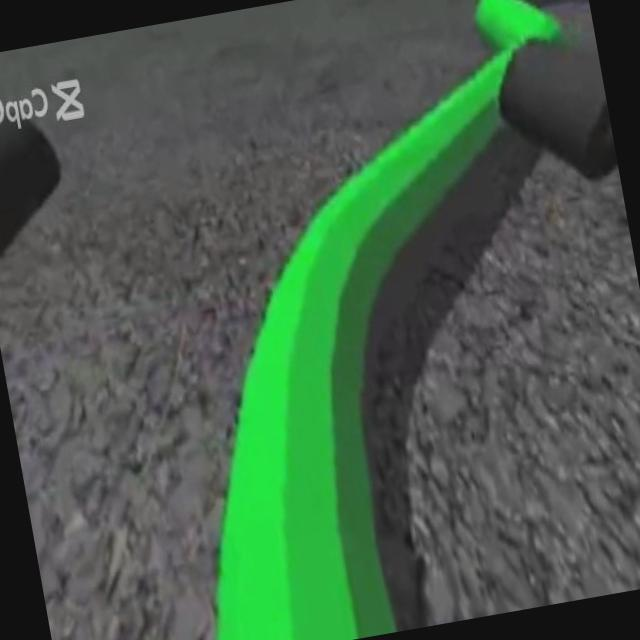gas: (118, 78, 572, 640)
